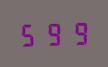five: (18, 21, 40, 47)
nine: (42, 20, 64, 46), (65, 19, 87, 45)
